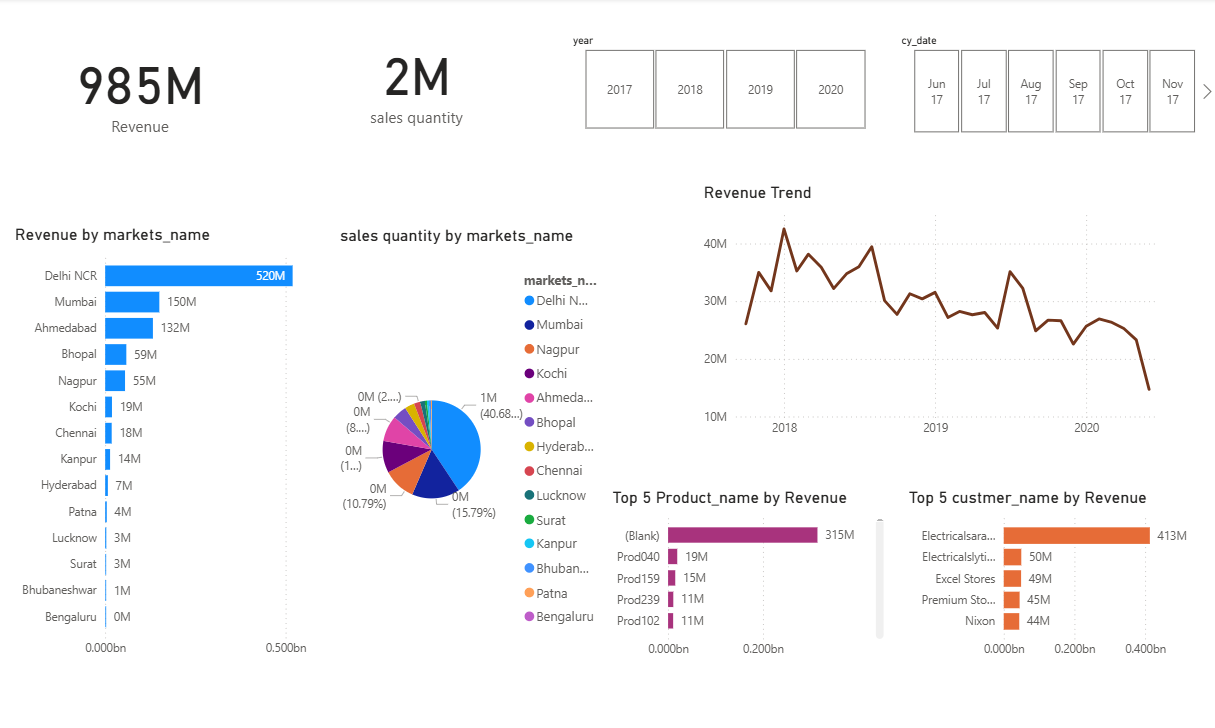

This screenshot's page, from the dashboard's own definition file:
{"tool":"powerbi","page":{"name":"Page 1","canvas":[1268,766],"ordinal":0},"visuals":[{"type":"card","fields":{"Values":["Base_measures.sales quantity"]},"box":[304.5,0,261,171.3],"z":0},{"type":"card","fields":{"Values":["Base_measures.Revenue"]},"box":[23.1,10.9,247.4,169.9],"z":1000},{"type":"clusteredBarChart","fields":{"Y":["Base_measures.Revenue"],"Category":["markets.markets_name"]},"box":[12.3,236,358.1,459.7],"z":2000},{"type":"pieChart","fields":{"Category":["markets.markets_name"],"Y":["Base_measures.sales quantity"]},"box":[349.4,236.5,284.1,447.2],"z":3000},{"type":"slicer","fields":{"Values":["date.year"]},"box":[584.5,32.6,341.2,110.1],"z":4000},{"type":"slicer","fields":{"Values":["date.cy_date"]},"box":[925.7,32.6,342.6,114.2],"z":5000},{"type":"clusteredBarChart","title":"Top 5 custmer_name by Revenue","fields":{"Y":["Base_measures.Revenue"],"Category":["customers.custmer_name"]},"box":[942,509.8,326.2,186.2],"z":6000},{"type":"clusteredBarChart","title":"Top 5 Product_name by Revenue","fields":{"Y":["Base_measures.Revenue"],"Category":["products.product_code"]},"box":[633.5,509.8,292.3,186.2],"z":7000},{"type":"lineChart","title":"Revenue Trend","fields":{"Y":["Base_measures.Revenue"],"Category":["date.cy_date"]},"box":[728.6,193,486.6,273.2],"z":7001}]}

Visuals, with their boxes in screenshot pixels (x1, y1, x2, y2), scaled from the page's 1268x766 canvas onto the 1215x728 screenshot:
card - Base_measures.sales quantity: <bbox>292, 0, 542, 163</bbox>
card - Base_measures.Revenue: <bbox>22, 10, 259, 172</bbox>
clusteredBarChart - Base_measures.Revenue x markets.markets_name: <bbox>12, 224, 355, 661</bbox>
pieChart - markets.markets_name x Base_measures.sales quantity: <bbox>335, 225, 607, 650</bbox>
slicer - date.year: <bbox>560, 31, 887, 136</bbox>
slicer - date.cy_date: <bbox>887, 31, 1214, 140</bbox>
"Top 5 custmer_name by Revenue" clusteredBarChart: <bbox>903, 485, 1214, 661</bbox>
"Top 5 Product_name by Revenue" clusteredBarChart: <bbox>607, 485, 887, 661</bbox>
"Revenue Trend" lineChart: <bbox>698, 183, 1164, 443</bbox>
